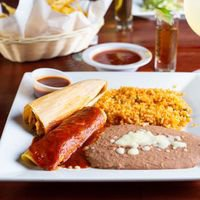sushi: (0, 0, 113, 63), (31, 68, 73, 98)
